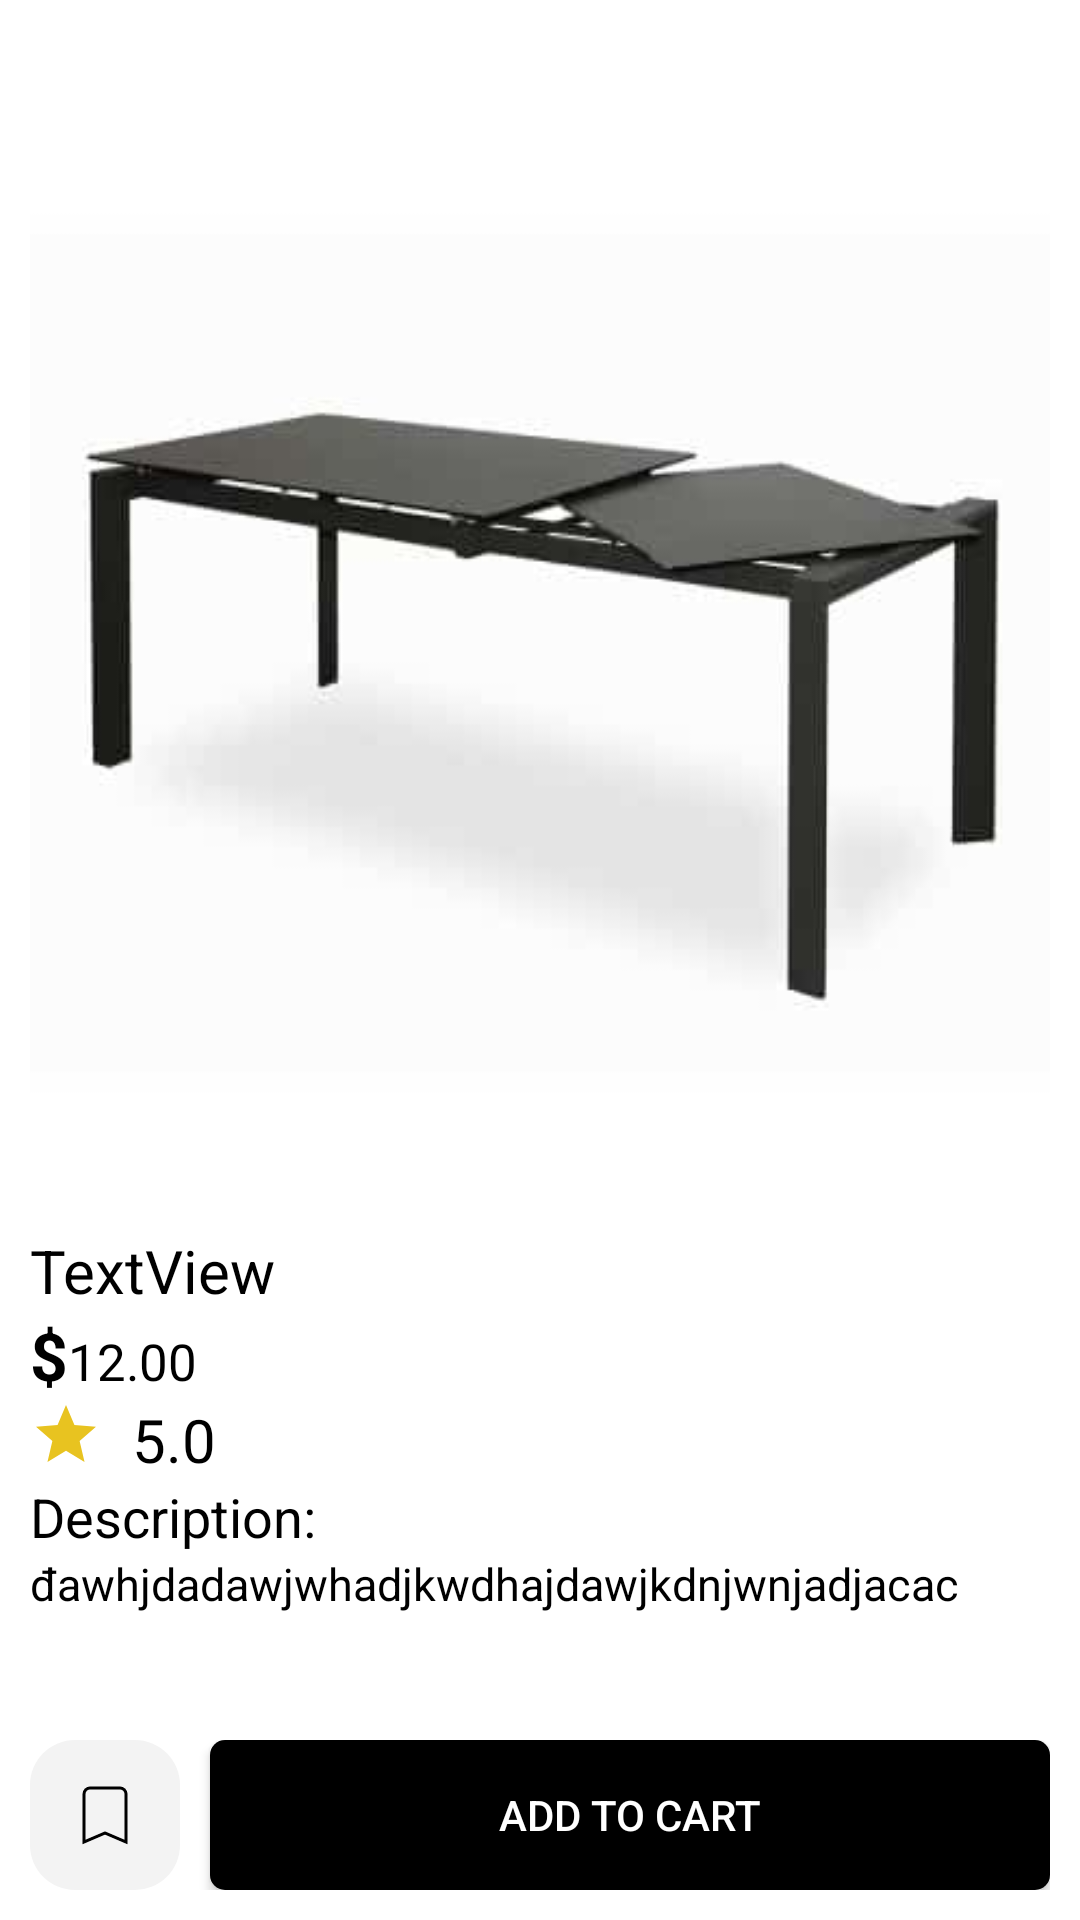

Named icons in this screenshot (1080 x 1920) and their bounding boxes, (x1, y1, x2, y2):
bookmark: (30, 1740, 180, 1890)
star: (36, 1405, 96, 1462)
